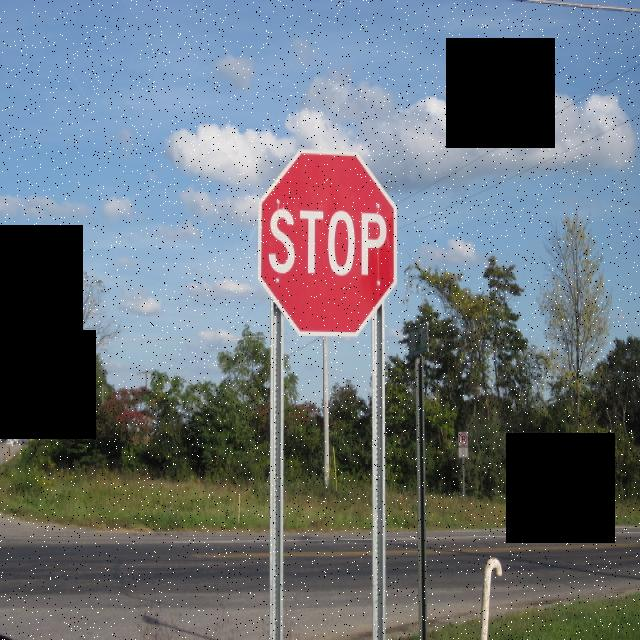stop: (252, 138, 406, 344)
